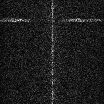wifi: (1, 19, 104, 22)
